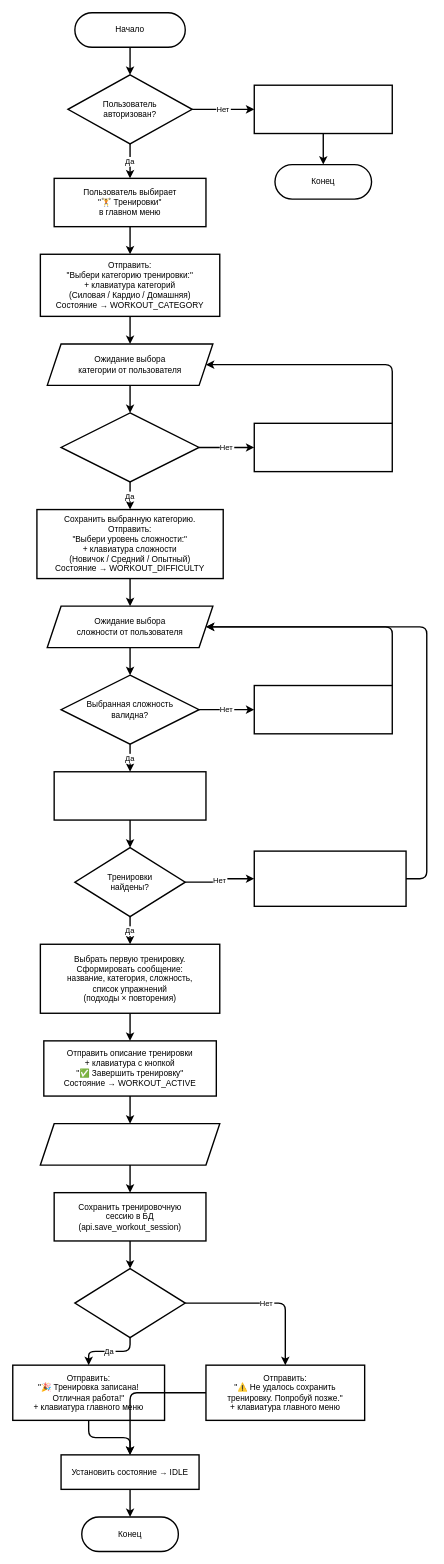
The diagram is 444 pixels wide and 1564 high, and some of its shapes have lost their labels. Here are the shapes that lost their labels. From the top down, the centre of each, then its label:
point (323, 109): Отправить: "Сначала нужно войти. Напиши /start"
point (129, 447): Выбранная категория валидна?
point (323, 447): Отправить: "Выбери категорию из кнопок ниже"
point (323, 709): Отправить: "Выбери сложность из кнопок ниже"
point (129, 795): Запрос тренировок из БД по категории и сложности (api.get_workouts)
point (329, 878): Отправить: "😔 Тренировок для данной комбинации пока нет. Попробуй другую."
point (129, 1144): Ожидание нажатия "✅ Завершить тренировку"
point (130, 1303): Сохранение успешно?
